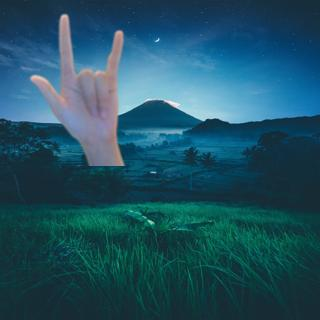ILY: (24, 9, 133, 145)
